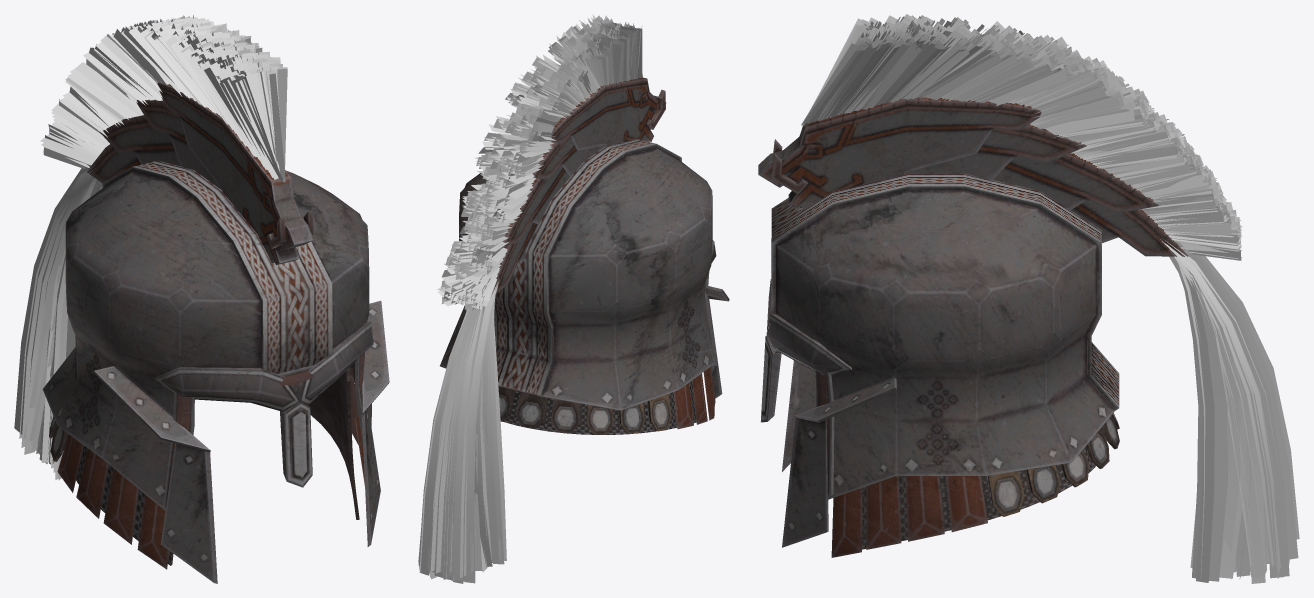
File: sk_dwarf_iron_helmet_lord_d2.fbx
3 renders of one model, left to right at view 1: azimuth 30°, elevation 25°; view 2: azimuth 150°, elevation 25°; view 3: azimuth 270°, elevation 25°, orthographic. The views are drawn at different scales.
Parts seen in each view (by area): view 1: sk_dwarf_iron_helmet_lord_d2.0, sk_dwarf_iron_helmet_lord_d2.1; view 2: sk_dwarf_iron_helmet_lord_d2.0, sk_dwarf_iron_helmet_lord_d2.1; view 3: sk_dwarf_iron_helmet_lord_d2.0, sk_dwarf_iron_helmet_lord_d2.1.
Part boxes in pixels (x1=…): sk_dwarf_iron_helmet_lord_d2.0: x1=42, y1=82, x2=389, y2=583; sk_dwarf_iron_helmet_lord_d2.1: x1=14, y1=15, x2=287, y2=480; sk_dwarf_iron_helmet_lord_d2.0: x1=440, y1=77, x2=729, y2=434; sk_dwarf_iron_helmet_lord_d2.1: x1=418, y1=14, x2=642, y2=583; sk_dwarf_iron_helmet_lord_d2.0: x1=758, y1=97, x2=1188, y2=557; sk_dwarf_iron_helmet_lord_d2.1: x1=801, y1=14, x2=1299, y2=583.
Bounding box in the file's own units: 0.2896 × 0.4601 × 0.5107.
